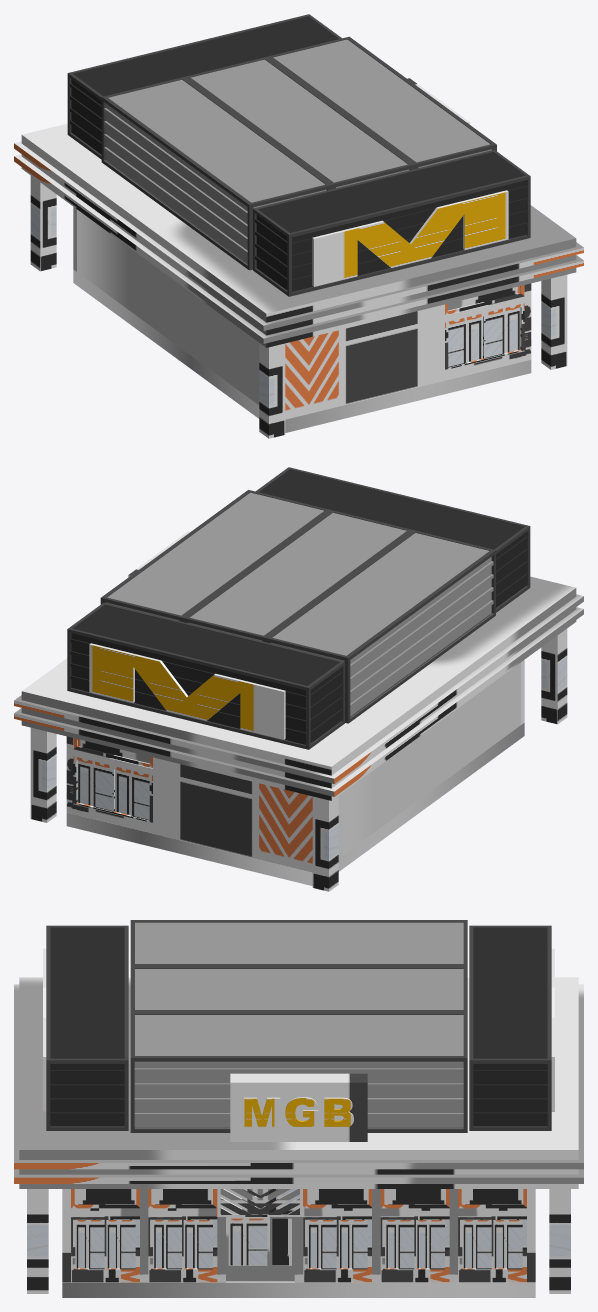
File: 餐廳優化0125untitled.fbx
3 renders of one model, top to bottom at view 1: azimuth 30°, elevation 25°; view 2: azimuth 150°, elevation 25°; view 3: azimuth 270°, elevation 25°, orthographic. The views are drawn at different scales.
Visible parts, largest first — view 1: 貨櫃箱, 屋頂, 左側牆, 造型牆.002, 室內地板.006, 室內地板.002; view 2: 貨櫃箱, 屋頂, 右側牆, 造型牆.002, 室內地板.006, 室內地板.002; view 3: 貨櫃箱, 屋頂, 正門指示牌.004, 室內地板.006, 正門口, 正門指示牌.001, 右側牆, 左側牆.
Boxes of the visible parts, x1=… form: 貨櫃箱: x1=67, y1=14, x2=530, y2=296; 屋頂: x1=14, y1=78, x2=583, y2=438; 左側牆: x1=285, y1=283, x2=531, y2=419; 造型牆.002: x1=128, y1=247, x2=259, y2=405; 室內地板.006: x1=73, y1=269, x2=531, y2=432; 室內地板.002: x1=77, y1=209, x2=128, y2=309; 貨櫃箱: x1=67, y1=467, x2=530, y2=749; 屋頂: x1=14, y1=531, x2=583, y2=891; 右側牆: x1=66, y1=736, x2=312, y2=872; 造型牆.002: x1=373, y1=662, x2=520, y2=832; 室內地板.006: x1=66, y1=722, x2=524, y2=885; 室內地板.002: x1=338, y1=771, x2=372, y2=858; 貨櫃箱: x1=46, y1=920, x2=551, y2=1132; 屋頂: x1=14, y1=948, x2=583, y2=1293; 正門指示牌.004: x1=71, y1=1189, x2=526, y2=1282; 室內地板.006: x1=62, y1=1281, x2=535, y2=1297; 正門口: x1=226, y1=1217, x2=269, y2=1281; 正門指示牌.001: x1=270, y1=1217, x2=294, y2=1281; 右側牆: x1=527, y1=1189, x2=535, y2=1282; 左側牆: x1=62, y1=1189, x2=70, y2=1282.
Bounding box in the file's own units: 1966 × 1218 × 2651.
